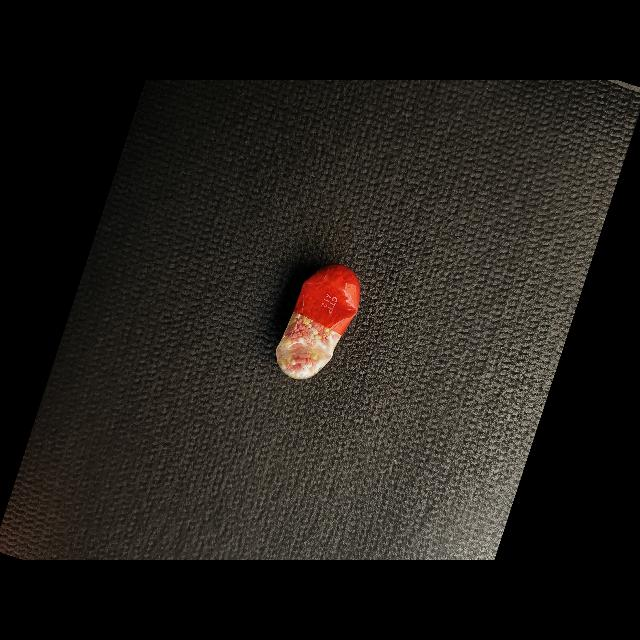Defective Capsule: (276, 264, 360, 380)
